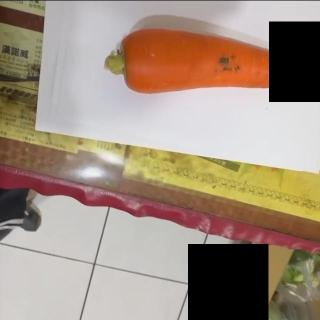carrot: (105, 28, 319, 96)
